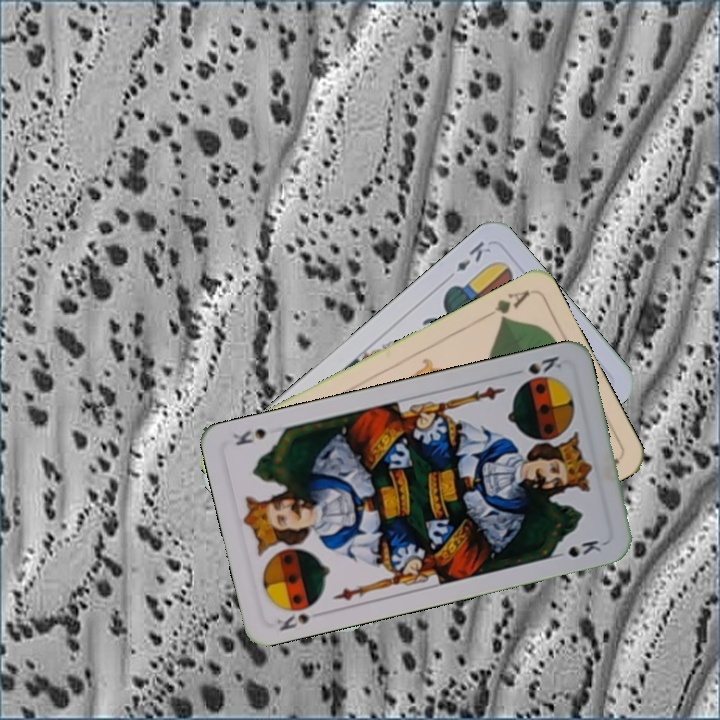EK: (452, 237, 494, 274)
GA: (478, 286, 532, 324)
SK: (273, 598, 327, 634), (524, 352, 565, 377)
